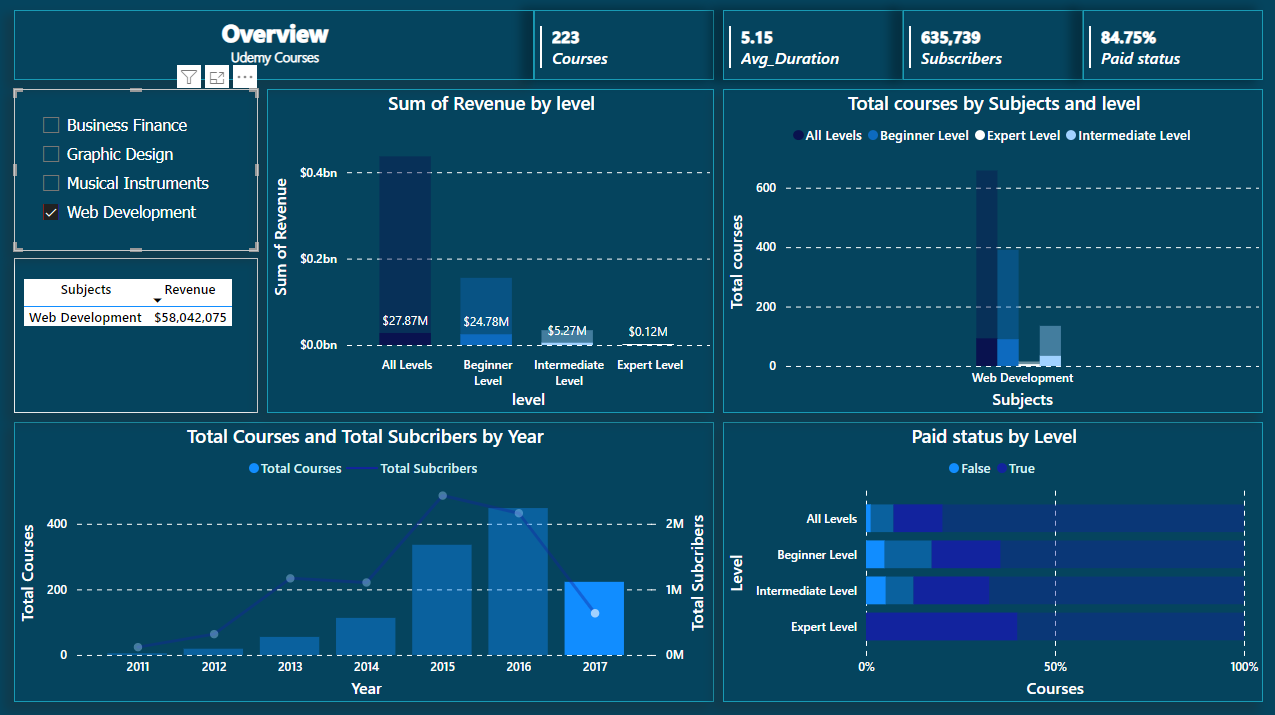

The page's visual inventory and layout, read from the dashboard file:
{"tool":"powerbi","page":{"name":"Overviews","canvas":[1280,720],"ordinal":0},"visuals":[{"type":"lineStackedColumnComboChart","fields":{"Category":["2  Udemy_courses.published_timestamp.Variation.Date Hierarchy.Year","2  Udemy_courses.published_timestamp.Variation.Date Hierarchy.Month"],"Y2":["Sum(2  Udemy_courses.num_subscribers)"],"Y":["CountNonNull(Udemy_courses.course_title)"]},"box":[15,422,700,280],"z":0},{"type":"hundredPercentStackedBarChart","title":"Paid status each Level","fields":{"Category":["Udemy_courses.level"],"Series":["Udemy_courses.is_paid"],"Y":["CountNonNull(Udemy_courses.course_id)"]},"box":[724,422,540,280],"z":1000},{"type":"multiRowCard","title":"Courses","fields":{"Values":["CountNonNull(2  Udemy_courses.course_title)"]},"box":[535,10,180,70],"z":2000},{"type":"multiRowCard","fields":{"Values":["2  Udemy_courses.Average of content_duration average per course_title"]},"box":[723.8,10,180,70],"z":3000},{"type":"multiRowCard","fields":{"Values":["Sum(2  Udemy_courses.num_subscribers)"]},"box":[903.8,10,180,70],"z":4000},{"type":"slicer","title":"Subjects","fields":{"Values":["2  Udemy_courses.subject"]},"box":[15,89,244,162],"z":5000},{"type":"textbox","box":[15,10,520,70],"z":6000},{"type":"tableEx","fields":{"Values":["Udemy_courses.subject","Sum(Udemy_courses.Revenue)"]},"box":[15,257.9,244.3,155],"z":7000},{"type":"clusteredColumnChart","fields":{"Category":["Udemy_courses.subject"],"Y":["CountNonNull(Udemy_courses.course_title)"],"Series":["Udemy_courses.level"]},"box":[724,89,540,324],"z":8000},{"type":"multiRowCard","fields":{"Values":["Udemy_courses.Paid status"]},"box":[1083.8,10,180,70],"z":9000},{"type":"columnChart","fields":{"Y":["Sum(Udemy_courses.Revenue)"],"Category":["Udemy_courses.level"]},"box":[268,89,447,324],"z":10000}]}

Visuals, with their boxes in screenshot pixels (x1, y1, x2, y2), scaled from the page's 1280x720 canvas onto the 1275x715 screenshot:
lineStackedColumnComboChart - 2  Udemy_courses.published_timestamp.Variation.Date Hierarchy.Year x 2  Udemy_courses.published_timestamp.Variation.Date Hierarchy.Month: rect(15, 419, 712, 697)
"Paid status each Level" hundredPercentStackedBarChart: rect(721, 419, 1259, 697)
"Courses" multiRowCard: rect(533, 10, 712, 79)
multiRowCard - 2  Udemy_courses.Average of content_duration average per course_title: rect(721, 10, 900, 79)
multiRowCard - Sum(2  Udemy_courses.num_subscribers): rect(900, 10, 1080, 79)
"Subjects" slicer: rect(15, 88, 258, 249)
textbox: rect(15, 10, 533, 79)
tableEx - Udemy_courses.subject x Sum(Udemy_courses.Revenue): rect(15, 256, 258, 410)
clusteredColumnChart - Udemy_courses.subject x CountNonNull(Udemy_courses.course_title): rect(721, 88, 1259, 410)
multiRowCard - Udemy_courses.Paid status: rect(1080, 10, 1259, 79)
columnChart - Sum(Udemy_courses.Revenue) x Udemy_courses.level: rect(267, 88, 712, 410)
